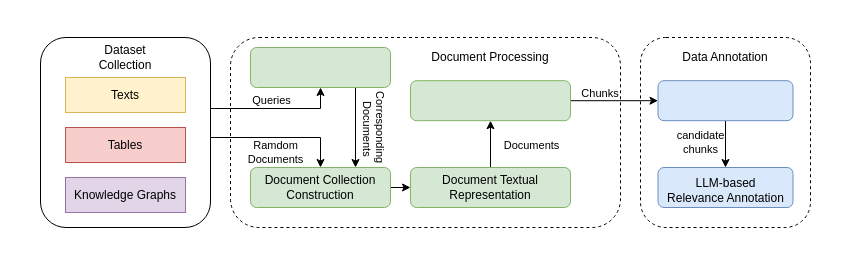
This 857x264 diagram has some shape labels left out. Each missing label, with the centre of its shape:
Chunking: point 490,100
Pooling: point 725,100
Query Selection: point 320,67
